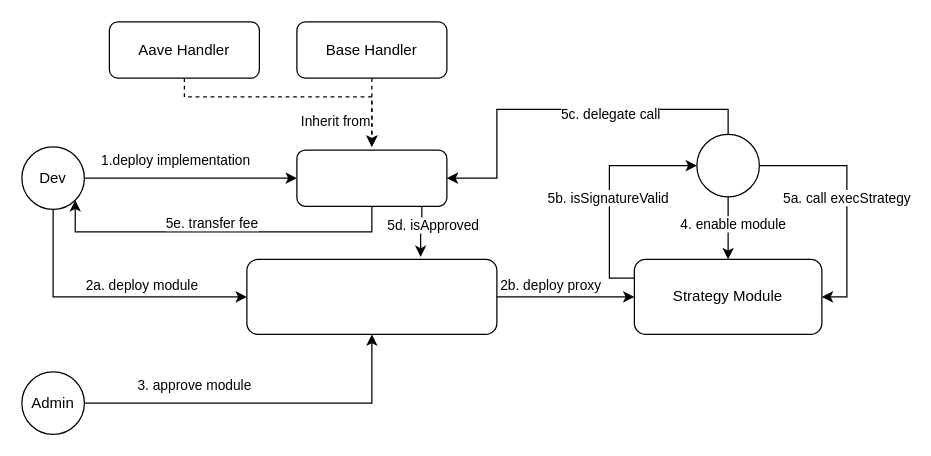
Image size: 931x456. Some labels were removed from this diagram. Here are the shapes that lost their labels. From the top down, the box of each, then its label:
(296, 149, 447, 206): Custom Strategy
(696, 133, 759, 197): User SA
(246, 258, 497, 334): Strategy Module Factory (Beneficiary & Implementation)
